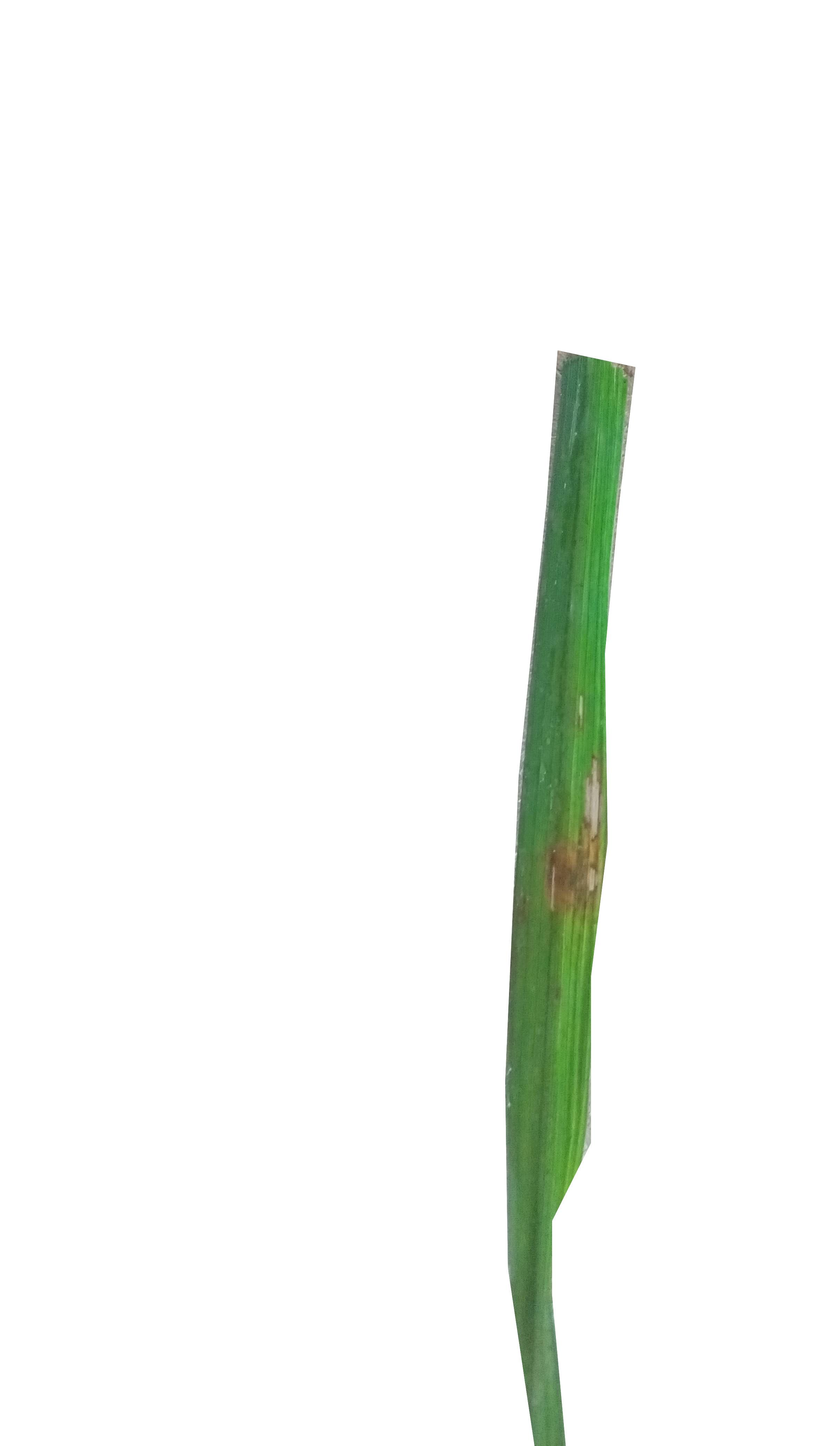Rice blast: (539, 740, 608, 921)
